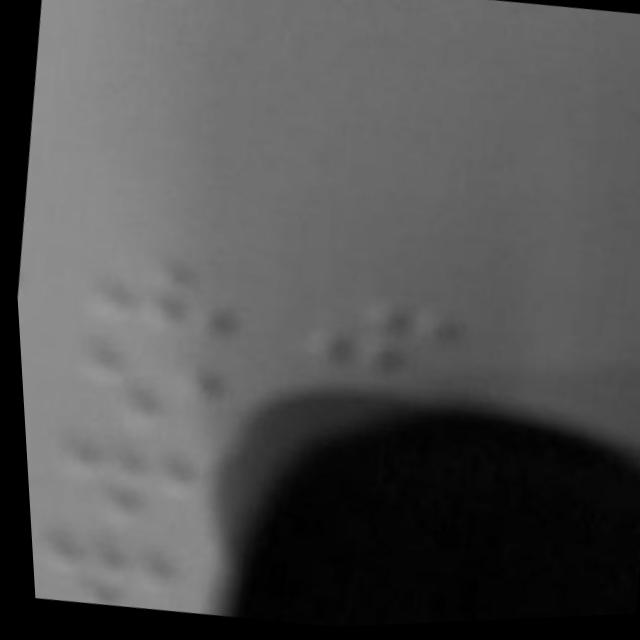braiile: (60, 322, 246, 445), (68, 242, 265, 357), (280, 280, 477, 394), (48, 424, 238, 537), (24, 510, 214, 623)
